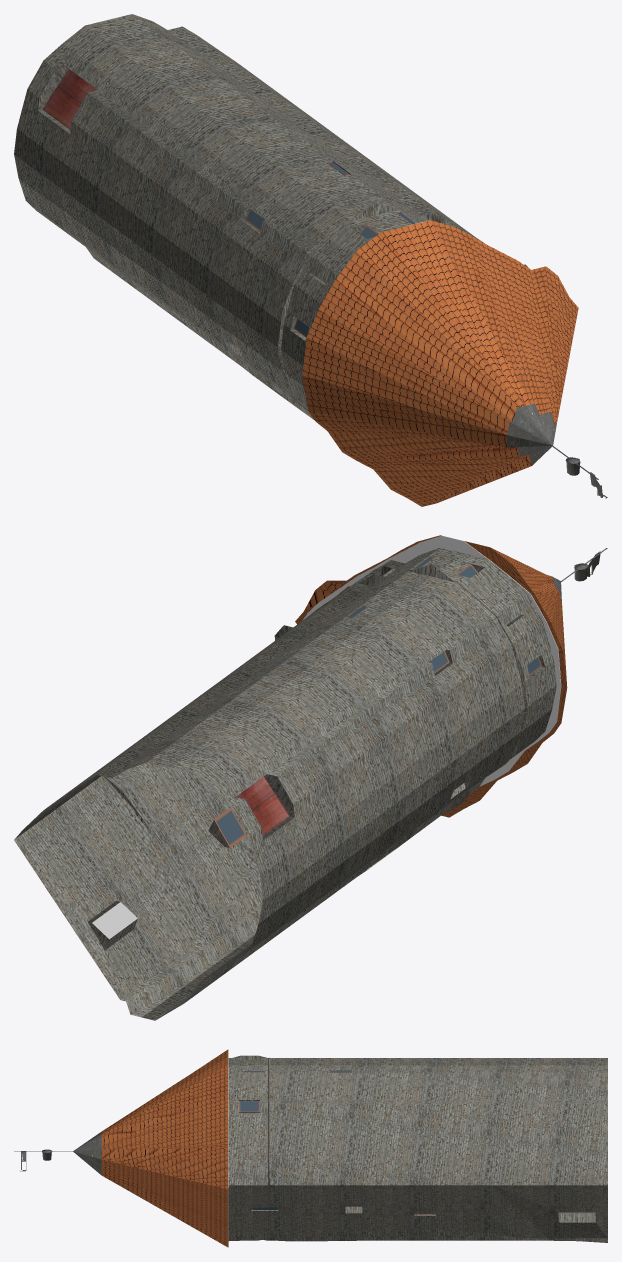
Rendered from Laboratooriumi_31-origo.obj.
3 views of the same model, one above another, from view 1: azimuth 30°, elevation 25°; view 2: azimuth 150°, elevation 25°; view 3: azimuth 270°, elevation 25° (orthographic). The views are drawn at different scales.
Visible parts, largest first — view 1: Laboratooriumi_31; view 2: Laboratooriumi_31; view 3: Laboratooriumi_31.
Boxes of the visible parts, x1=… form: Laboratooriumi_31: x1=14, y1=14, x2=607, y2=506; Laboratooriumi_31: x1=14, y1=535, x2=607, y2=1020; Laboratooriumi_31: x1=14, y1=1049, x2=607, y2=1247.
Size of the model in its own units: 11.69 by 11.5 by 34.21.
